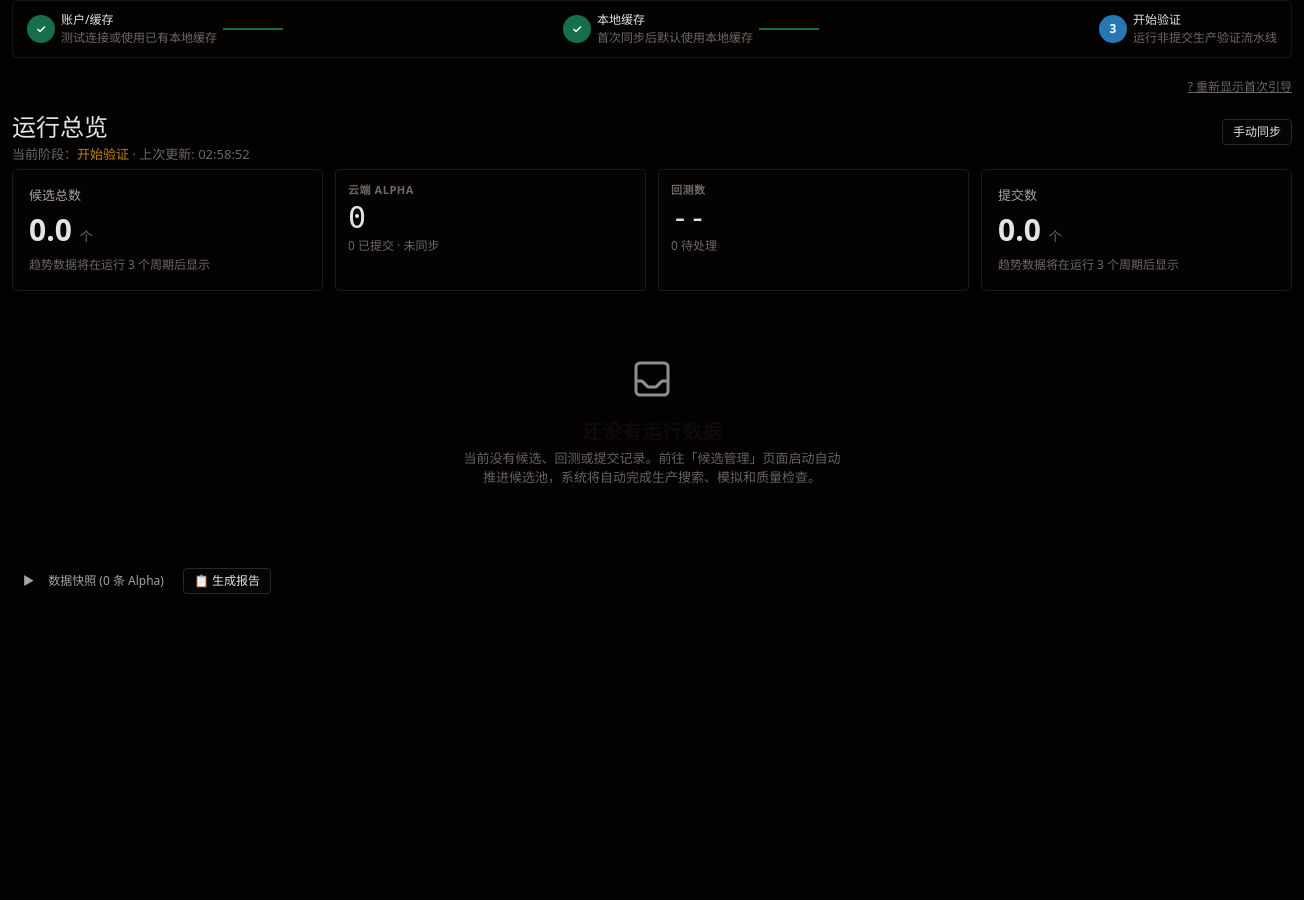
Dashboard › shows guide again after re-show button clicked
Click the button with aria-label "重新显示首次使用引导" at (1240, 87), box 1188,78 -> 1292,96
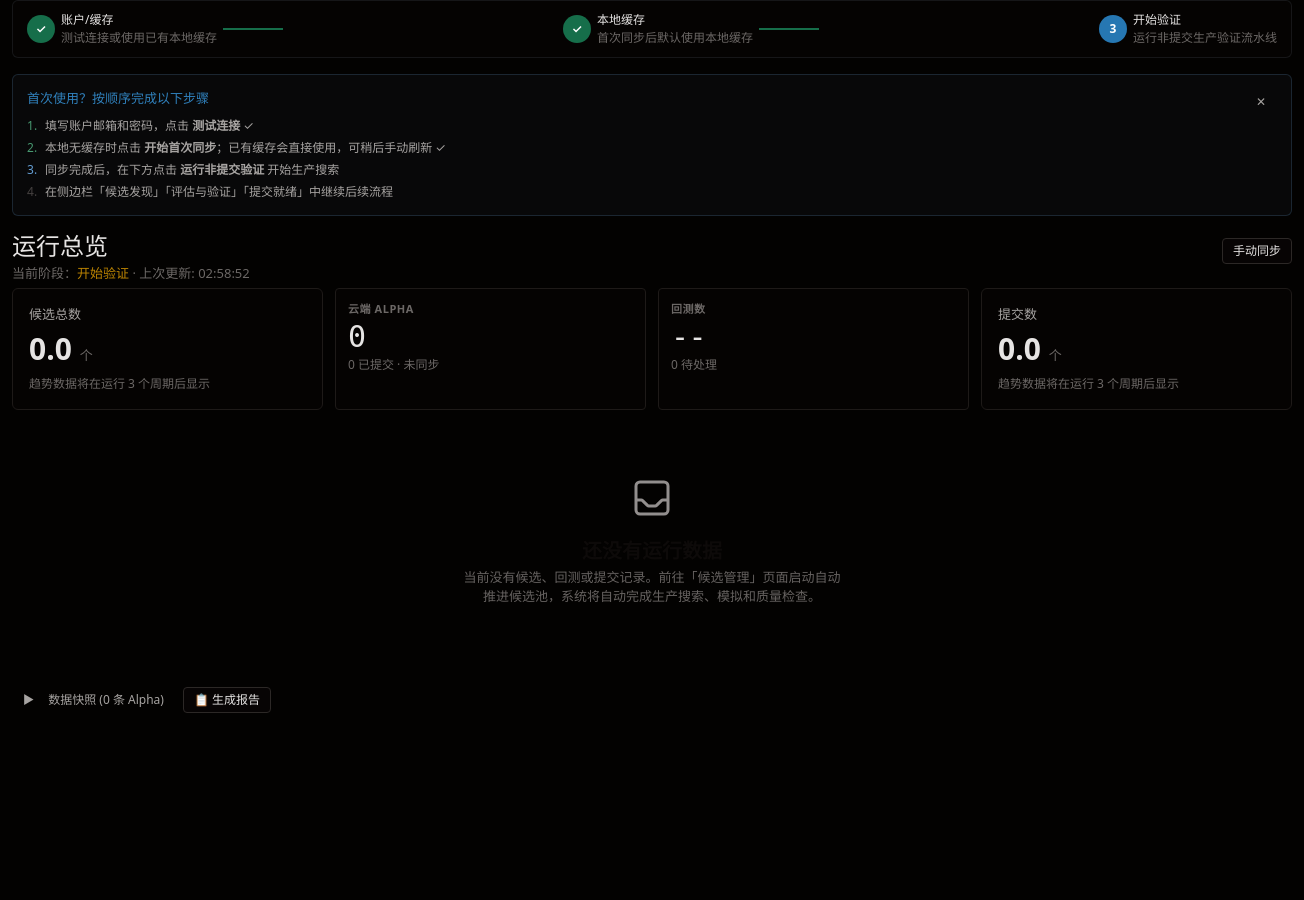
expect the text "首次使用？按顺序完成以下步骤" is shown: met, box 27,89 -> 209,107
